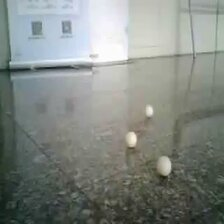tennis: (171, 94, 191, 120), (111, 69, 124, 86), (49, 57, 60, 76), (125, 53, 136, 67)
